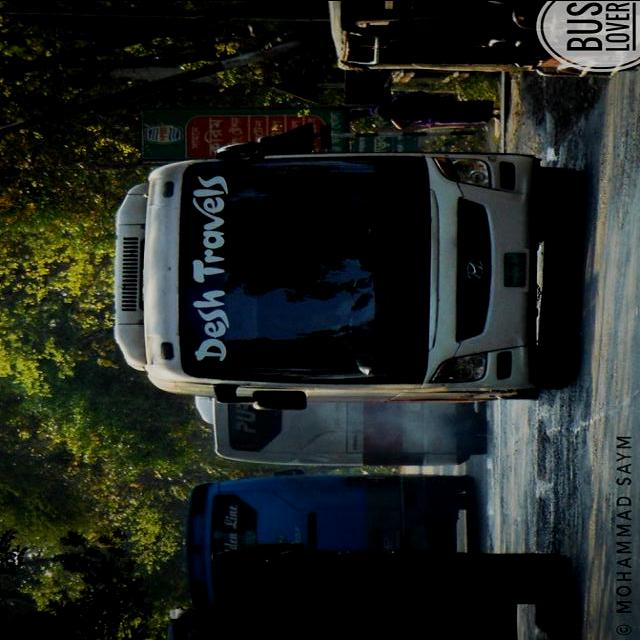bus: (113, 136, 583, 410)
